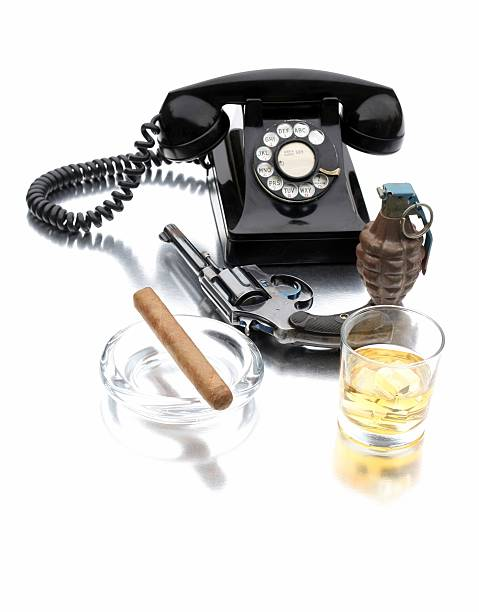e1: (358, 180, 434, 307)
